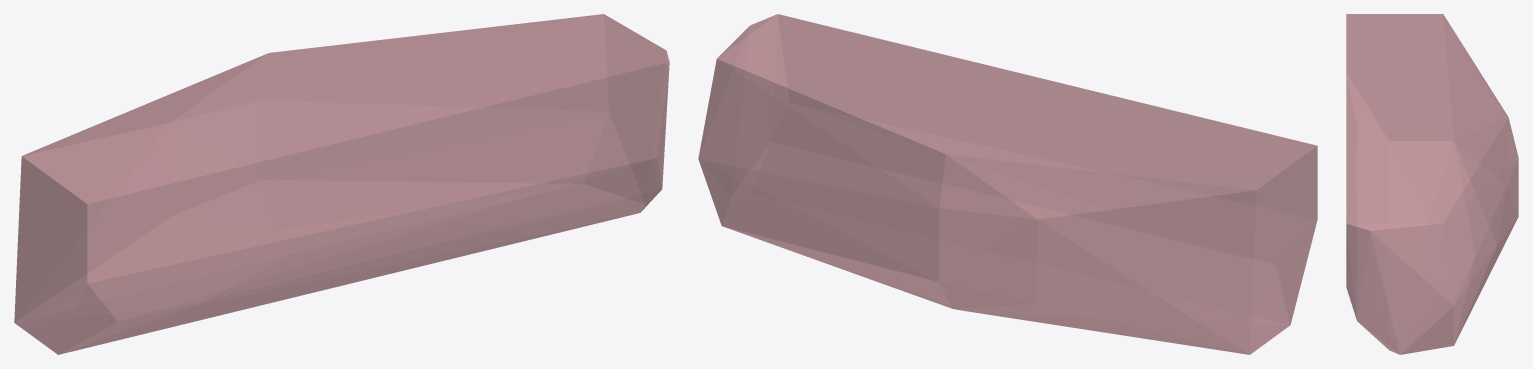
3 renders of one model, left to right at view 1: azimuth 30°, elevation 25°; view 2: azimuth 150°, elevation 25°; view 3: azimuth 270°, elevation 25°, orthographic. The views are drawn at different scales.
Parts seen in each view (by area): view 1: Shape_IndexedFaceSet.004_Shape_IndexedFaceSet.9577; view 2: Shape_IndexedFaceSet.004_Shape_IndexedFaceSet.9577; view 3: Shape_IndexedFaceSet.004_Shape_IndexedFaceSet.9577.
Boxes of the visible parts, left/top/right/bottom form: Shape_IndexedFaceSet.004_Shape_IndexedFaceSet.9577: left=14, top=14, right=669, bottom=354; Shape_IndexedFaceSet.004_Shape_IndexedFaceSet.9577: left=698, top=14, right=1317, bottom=354; Shape_IndexedFaceSet.004_Shape_IndexedFaceSet.9577: left=1346, top=14, right=1518, bottom=354.
Bounding box in the file's own units: 0.1314 × 0.0391 × 0.0447.
